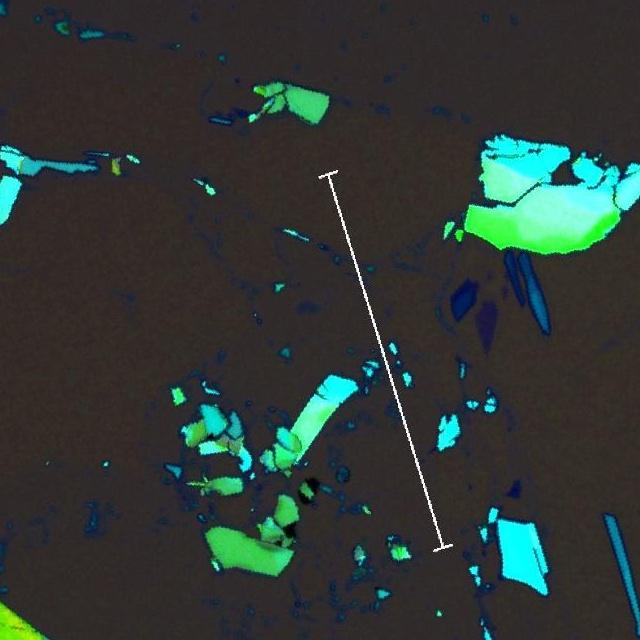monolayer-eWW4: (474, 299, 498, 357)
